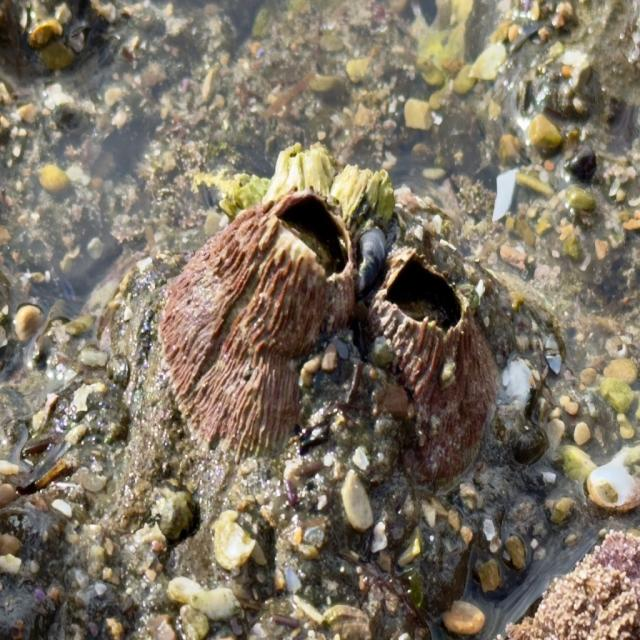barnacles: (163, 180, 352, 455), (359, 216, 509, 512)
